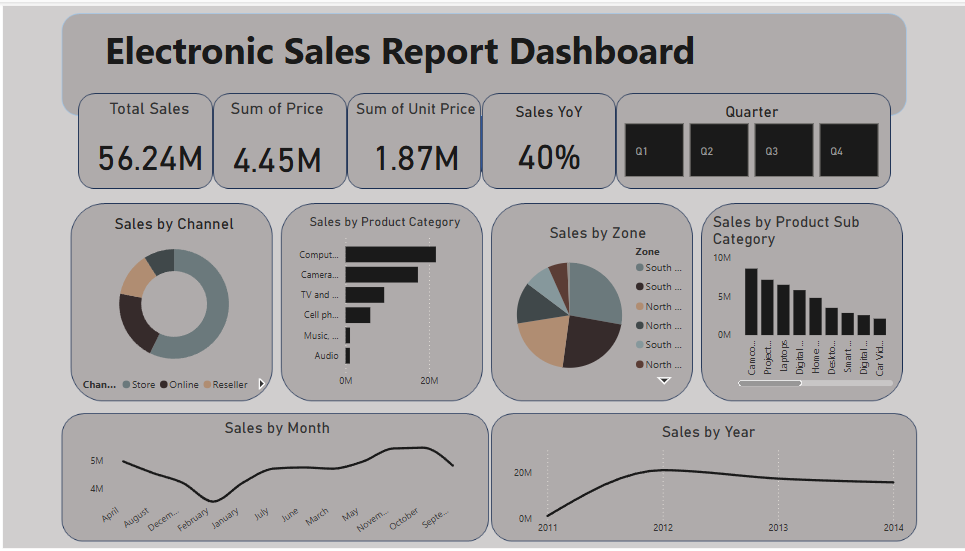

The dashboard page shown, as its layout file describes it:
{"tool":"powerbi","page":{"name":"Page 2","canvas":[1280,720],"ordinal":1},"visuals":[{"type":"image","box":[0,0,1280.2,720],"z":0},{"type":"card","title":"Total Sales","fields":{"Values":["Sales_Details.Total Sales"]},"box":[108,126.7,184.3,121],"z":1000},{"type":"card","title":"Sum of Price","fields":{"Values":["Sum(Sales_Details.Price)"]},"box":[279.4,126.7,178.6,126.7],"z":2000},{"type":"card","title":"Sum of Unit Price","fields":{"Values":["Sum(Sales_Details.Unit Cost)"]},"box":[457.9,126.7,182.9,121],"z":3000},{"type":"card","title":"Sales YoY ","fields":{"Values":["DateTable.Sales YoY Variance %"]},"box":[629.3,131,188.6,112.3],"z":4000},{"type":"donutChart","title":"Sales by Channel","fields":{"Category":["Sales_Details.Channel"],"Y":["Sales_Details.Total Sales"]},"box":[108,277.9,249.1,241.9],"z":5000},{"type":"pieChart","title":"Sales by Zone","fields":{"Category":["Sales_Details.Zone"],"Y":["Sum(Sales_Details.Sales)"]},"box":[659.5,289.4,256.3,218.9],"z":6000},{"type":"clusteredBarChart","title":"Sales by Product Category","fields":{"Category":["Sales_Details.Product Category"],"Y":["Sum(Sales_Details.Sales)"]},"box":[380.2,277.9,259.2,236.2],"z":7000},{"type":"lineChart","title":"Sales by Month","fields":{"Y":["Sum(Sales_Details.Sales)"],"Category":["DateTable.Month Name"]},"box":[118.1,544.3,501.1,162.7],"z":8000},{"type":"clusteredColumnChart","title":"Sales by Product Sub Category","fields":{"Category":["Sales_Details.Product Sub Category"],"Y":["Sales_Details.Total Sales"]},"box":[933.1,275,246.2,233.3],"z":9000},{"type":"lineChart","title":"Sales by Year","fields":{"Category":["DateTable.Year"],"Y":["Sales_Details.Total Sales"]},"box":[672.5,550.1,519.8,157],"z":10000},{"type":"advancedSlicerVisual","fields":{"Values":["DateTable.Quarter"]},"box":[817.9,131,342.7,103.7],"z":11000},{"type":"textbox","box":[136.8,23,1093,108],"z":12000}]}

Visuals, with their boxes in screenshot pixels (x1, y1, x2, y2), scaled from the page's 1280x720 canvas onto the 965x551 screenshot:
image: select_region(0, 0, 964, 550)
"Total Sales" card: select_region(81, 97, 220, 190)
"Sum of Price" card: select_region(211, 97, 345, 194)
"Sum of Unit Price" card: select_region(345, 97, 483, 190)
"Sales YoY " card: select_region(474, 100, 617, 186)
"Sales by Channel" donutChart: select_region(81, 213, 269, 398)
"Sales by Zone" pieChart: select_region(497, 221, 690, 389)
"Sales by Product Category" clusteredBarChart: select_region(287, 213, 482, 393)
"Sales by Month" lineChart: select_region(89, 417, 467, 541)
"Sales by Product Sub Category" clusteredColumnChart: select_region(703, 210, 889, 389)
"Sales by Year" lineChart: select_region(507, 421, 899, 541)
advancedSlicerVisual - DateTable.Quarter: select_region(617, 100, 875, 180)
textbox: select_region(103, 18, 927, 100)
